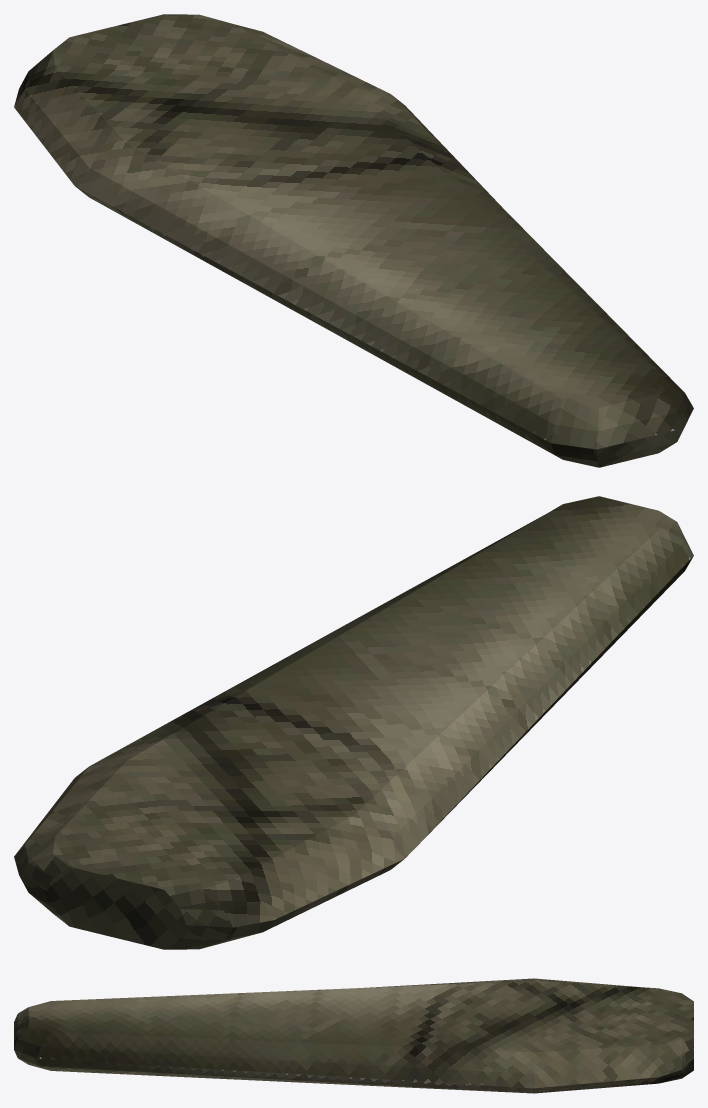
File: Sleeping bag.glb
3 renders of one model, top to bottom at view 1: azimuth 30°, elevation 25°; view 2: azimuth 150°, elevation 25°; view 3: azimuth 270°, elevation 25°, orthographic. The views are drawn at different scales.
Visible parts, largest first — view 1: Cube; view 2: Cube; view 3: Cube.
Boxes of the visible parts, left/top/right/bottom form: Cube: left=14, top=14, right=693, bottom=467; Cube: left=14, top=496, right=693, bottom=949; Cube: left=14, top=978, right=693, bottom=1093.
Bounding box in the file's own units: 2.83 × 0.4894 × 7.75.
Materials: 1 (1 with a texture image).
